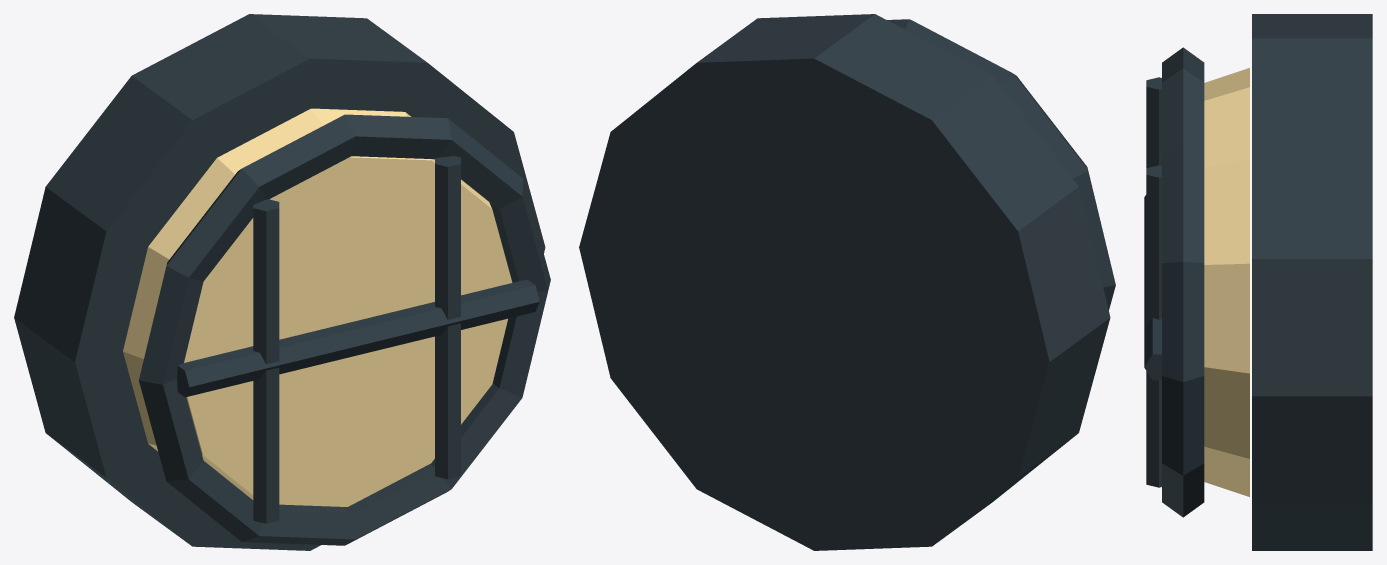
File: b18_round_bulkhead_wall_light.glb
The picture shows the model from 3 angles, left to right: view 1: azimuth 30°, elevation 25°; view 2: azimuth 150°, elevation 25°; view 3: azimuth 270°, elevation 25°; orthographic projection.
Visible parts, largest first — view 1: b18_round_bulkhead_wall_light; view 2: b18_round_bulkhead_wall_light; view 3: b18_round_bulkhead_wall_light.
Boxes of the visible parts, box(x1,y1,x2,y2) form: b18_round_bulkhead_wall_light: box(14, 14, 550, 550); b18_round_bulkhead_wall_light: box(579, 14, 1115, 550); b18_round_bulkhead_wall_light: box(1144, 14, 1372, 550).
Size of the model in its own units: 0.29 by 0.29 by 0.123.
